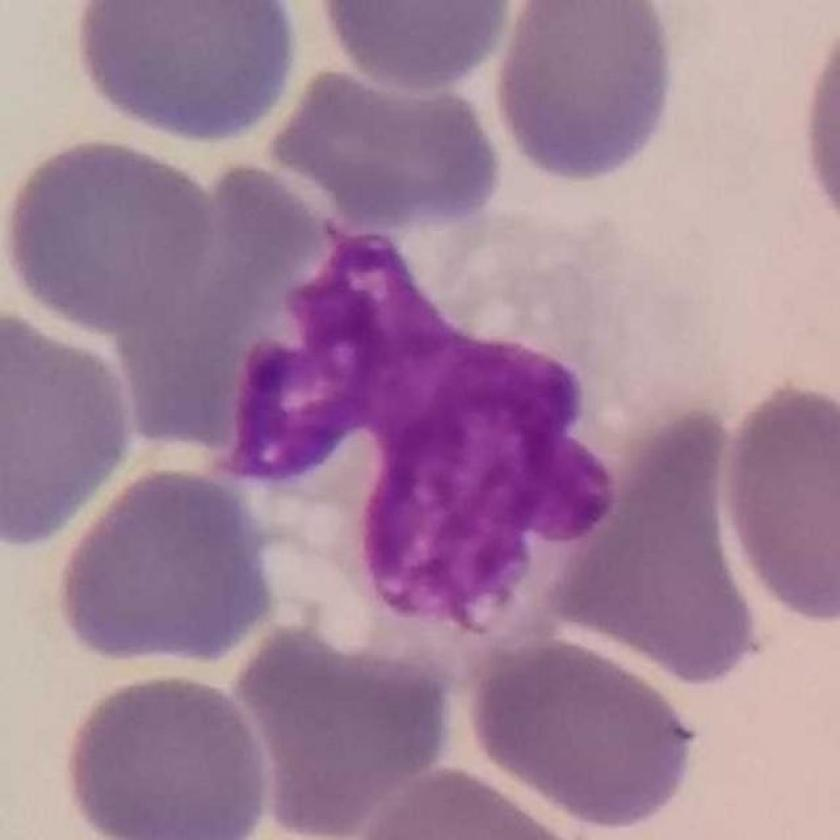monocyte: (226, 186, 721, 680)
